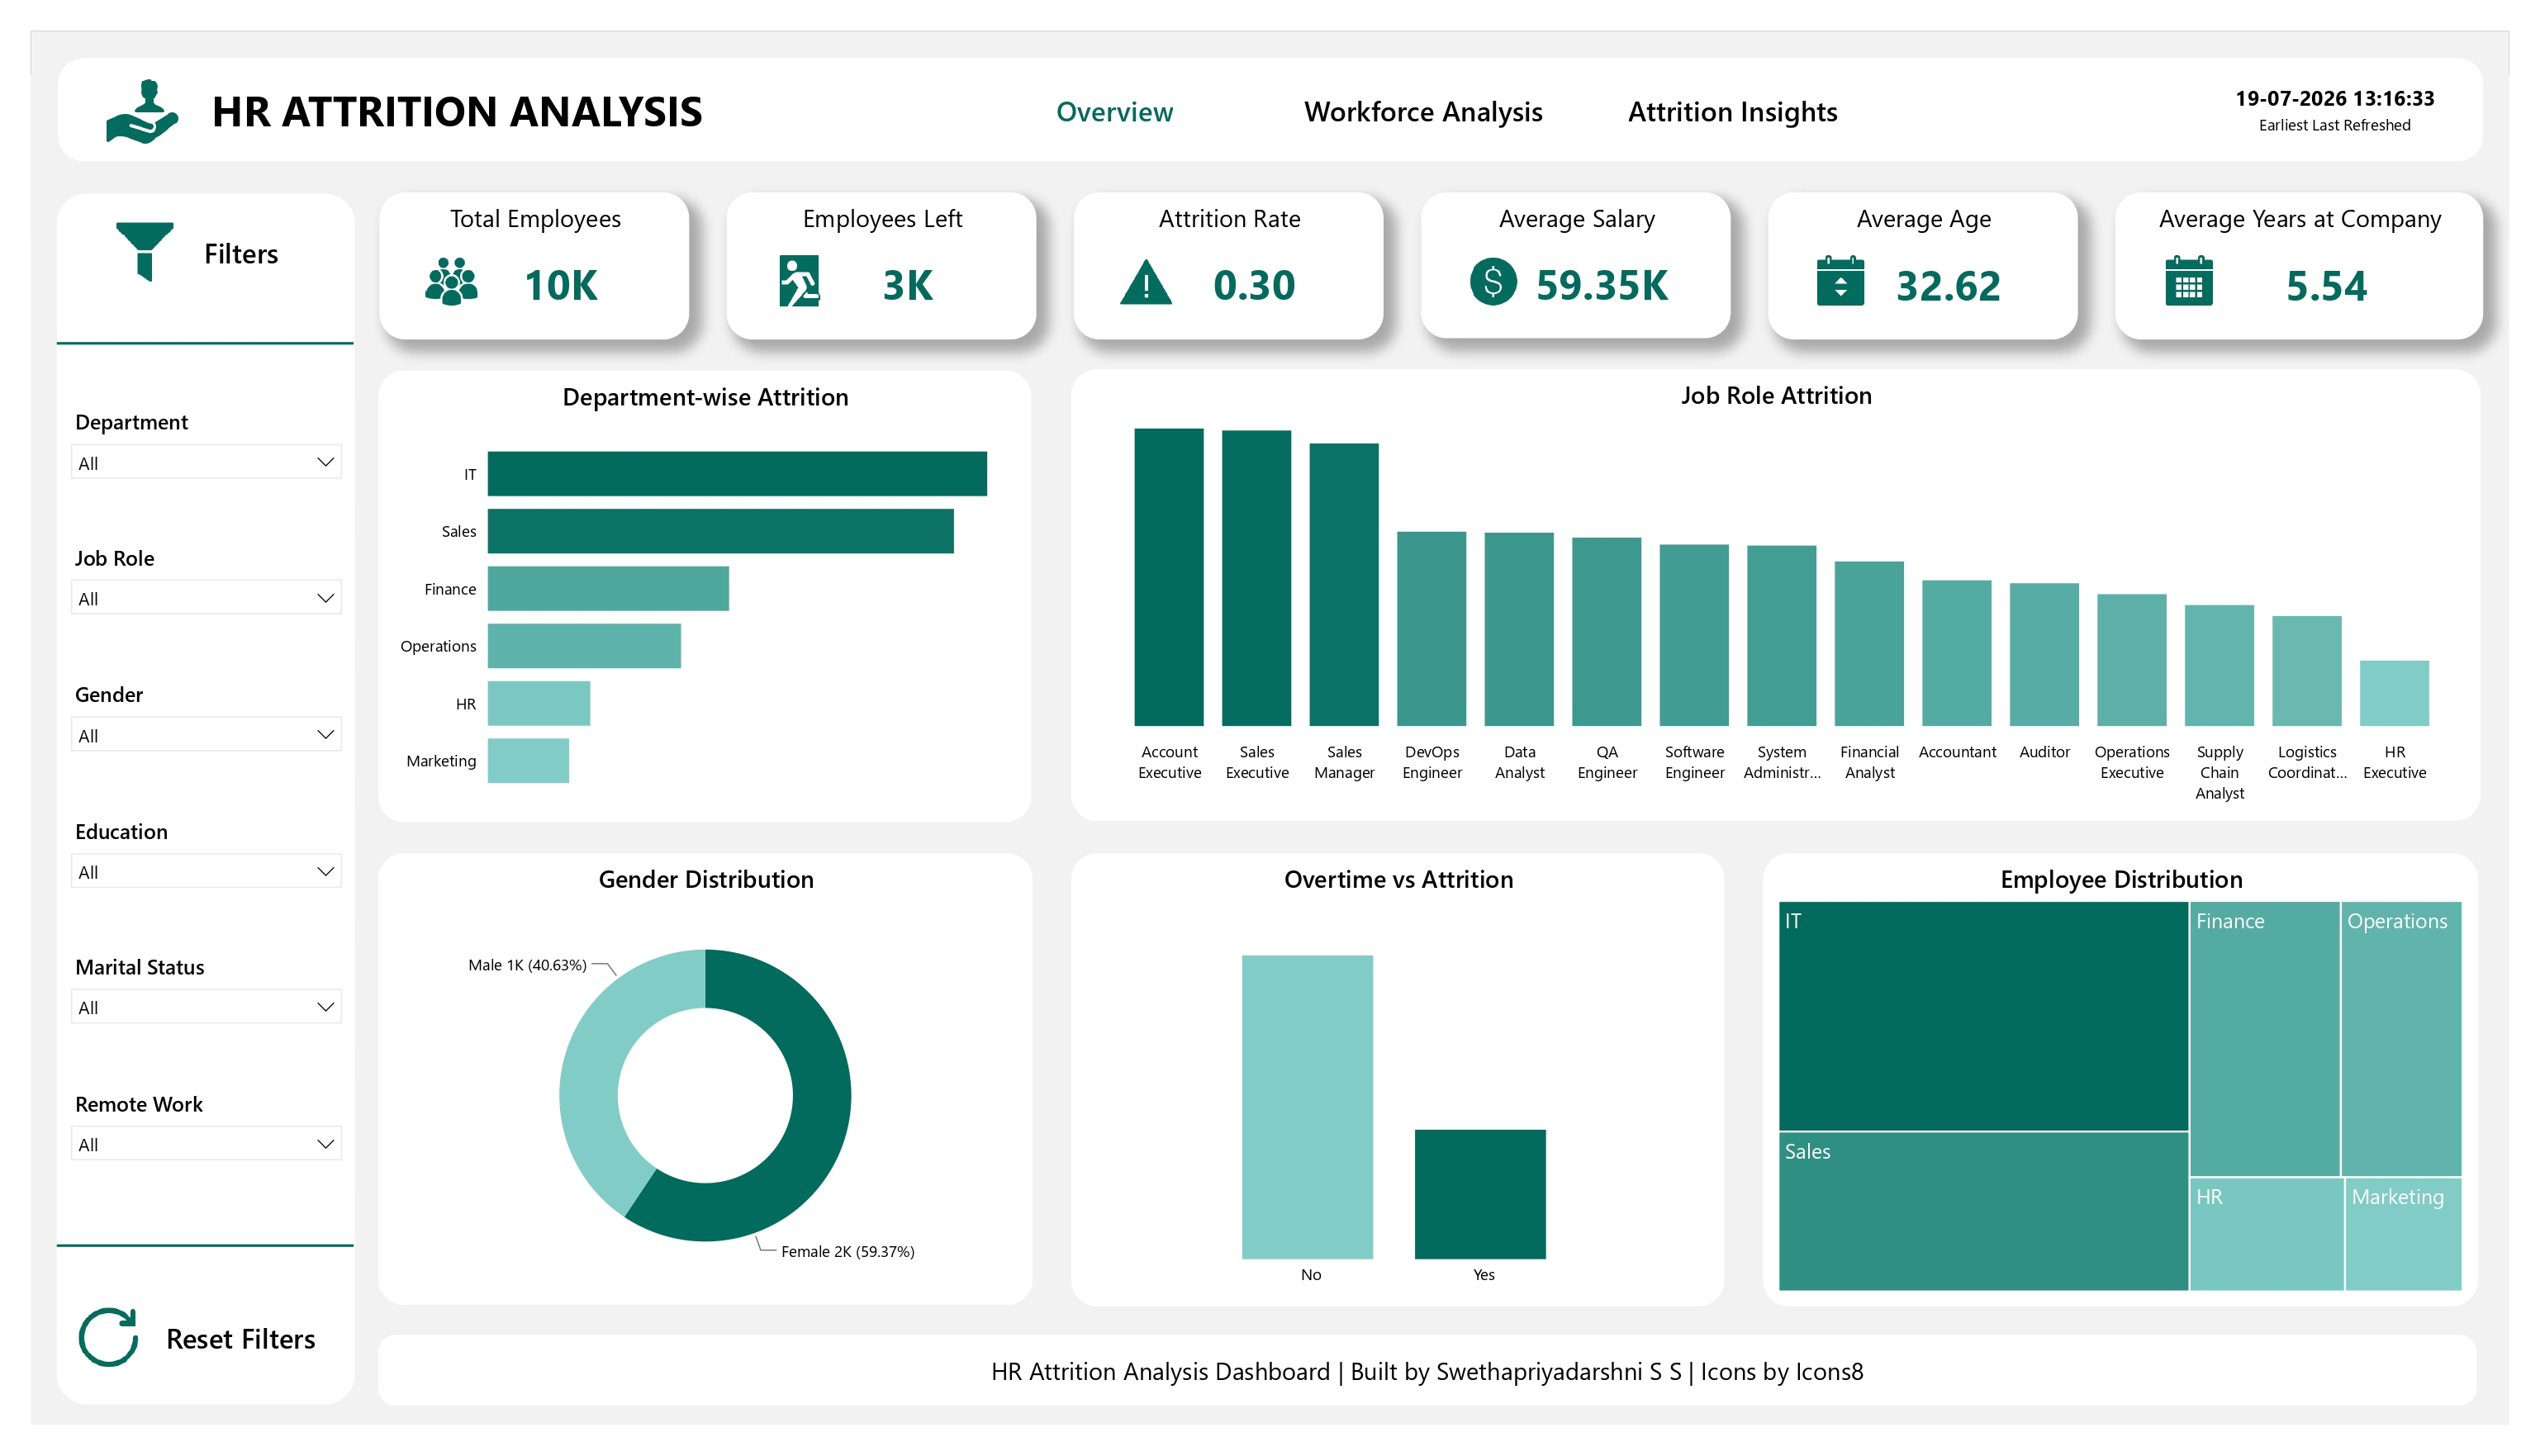

Layout of this report page (visuals, bound fields, positions):
{"tool":"powerbi","page":{"name":"Overview","canvas":[1920,1080],"ordinal":0},"visuals":[{"type":"group","id":"g1","title":"Header","box":[20.7,20.7,1879.3,80.1],"z":0},{"type":"shape","title":"Title Shape","box":[20.7,20.8,1879.3,80],"z":0,"group":"g1"},{"type":"cardVisual","title":"Total Employees","fields":{"Data":["Sheet1.Total Employees"]},"box":[269.8,125,240,113.5],"z":0,"group":"g4"},{"type":"shape","title":"Filter Shape","box":[20,126,231.5,938],"z":0,"group":"g2"},{"type":"image","title":"Filter Icon","box":[63.4,146,50.3,50],"z":0,"group":"g3"},{"type":"clusteredBarChart","title":"Department-wise Attrition","fields":{"Category":["Sheet1.Department"],"Y":["Sheet1.Employees Left"]},"box":[269,262.5,505.8,350.4],"z":0,"group":"g5"},{"type":"slicer","title":"Department Slicer","fields":{"Values":["Sheet1.Department"]},"box":[20.9,287.2,230,80],"z":0,"group":"g6"},{"type":"image","title":"Reset Icon","box":[35.4,987.1,50.3,50],"z":250,"group":"g7"},{"type":"actionButton","title":"Reset Button","box":[89.7,987.1,146.8,50],"z":500,"group":"g7"},{"type":"image","title":"Title Icon","box":[45.6,31.8,80,60],"z":1000,"group":"g1"},{"type":"cardVisual","title":"Employees Left","fields":{"Data":["Sheet1.Employees Left"]},"box":[538.8,125,240,113.5],"z":1000,"group":"g4"},{"type":"group","id":"g2","title":"Left Panel","box":[20,126,231.5,938],"z":1000},{"type":"group","id":"g3","title":"Filters","box":[63.4,146,145.1,50.2],"z":1000,"group":"g2"},{"type":"actionButton","title":"Filters Button","box":[118,146.2,90.5,50],"z":1000,"group":"g3"},{"type":"clusteredColumnChart","title":"Job Role Attrition","fields":{"Category":["Sheet1.Job_Role"],"Y":["Sheet1.Employees Left"]},"box":[805.8,261.9,1092.5,350.4],"z":1000,"group":"g5"},{"type":"slicer","title":"Job Role Slicer","fields":{"Values":["Sheet1.Job_Role"]},"box":[21,392.7,230,80],"z":1000,"group":"g6"},{"type":"textbox","title":"Title","box":[135,33.9,410.7,60],"z":2000,"group":"g1"},{"type":"group","id":"g4","title":"Cards","box":[269.8,125,1629.9,113.6],"z":2000},{"type":"cardVisual","title":"Attrition Rate","fields":{"Data":["Sheet1.Attrition Rate"]},"box":[807.8,125,240,113.5],"z":2000,"group":"g4"},{"type":"shape","title":"Filter Line","box":[20.1,221.7,230,40],"z":2000,"group":"g2"},{"type":"slicer","title":"Gender Slicer","fields":{"Values":["Sheet1.Gender"]},"box":[21,498.4,230,80],"z":2000,"group":"g6"},{"type":"donutChart","title":"Gender Distribution","fields":{"Category":["Sheet1.Gender"],"Y":["Sheet1.Employees Left"]},"box":[269,636.9,507.2,350.4],"z":2000,"group":"g5"},{"type":"actionButton","title":"Overview Button","box":[719.6,20.7,240,80],"z":3000,"group":"g1"},{"type":"cardVisual","title":"Average Salary","fields":{"Data":["Sheet1.Average Salary"]},"box":[1076.8,125.2,240,113.1],"z":3000,"group":"g4"},{"type":"group","id":"g5","title":"Charts","box":[269,261.9,1629.3,725.9],"z":3000},{"type":"group","id":"g6","title":"Slicers","box":[20.9,287.2,230.1,607.7],"z":3000,"group":"g2"},{"type":"slicer","title":"Education Slicer","fields":{"Values":["Sheet1.Education_Level"]},"box":[21,603.9,230,80],"z":3000,"group":"g6"},{"type":"columnChart","title":"Overtime vs Attrition","fields":{"Category":["Sheet1.Overtime"],"Y":["CountNonNull(Sheet1.Attrition)"]},"box":[805.8,637.3,506.3,350.4],"z":3000,"group":"g5"},{"type":"actionButton","title":"Workforce Analysis Button","box":[959,20.7,240,80],"z":4000,"group":"g1"},{"type":"cardVisual","title":"Average Age","fields":{"Data":["Sheet1.Average Age"]},"box":[1345.7,125,240,113.6],"z":4000,"group":"g4"},{"type":"treemap","title":"Employee Distribution","fields":{"Group":["Sheet1.Department"],"Values":["CountNonNull(Sheet1.Employee_ID)"]},"box":[1342.1,637.3,553.7,350.4],"z":4000,"group":"g5"},{"type":"slicer","title":"Marital Status Slicer","fields":{"Values":["Sheet1.Marital_Status"]},"box":[21,709.4,230,80],"z":4000,"group":"g6"},{"type":"shape","title":"Reset Line","box":[20.1,920.6,230,40.9],"z":4000,"group":"g2"},{"type":"shape","title":"Footer","box":[269,1010.3,1625.9,55],"z":4000},{"type":"actionButton","title":"Attrition Insights Button","box":[1198.3,20.7,240,80],"z":5000,"group":"g1"},{"type":"cardVisual","title":"Average Years at Company","fields":{"Data":["Sheet1.Average Years at Company"]},"box":[1614.7,125,285,113.6],"z":5000,"group":"g4"},{"type":"slicer","title":"Remote Work Slicer","fields":{"Values":["Sheet1.Remote_Work"]},"box":[21,814.9,230,80],"z":5000,"group":"g6"},{"type":"group","id":"g7","title":"Reset","box":[35.4,987.1,201.1,50],"z":5000,"group":"g2"},{"type":"cardVisual","title":"Last Refreshed","fields":{"Data":["Min(Last Refreshed.Last Refreshed)"]},"box":[1674.5,24.5,221.4,70],"z":5500,"group":"g1"}]}

Visuals, with their boxes on the page's 1920x1080 design canvas (x1, y1, x2, y2). These are canvas units, not pixel positions in the 2540x1456 screenshot, which may show the page scaled, cropped or inside an application window:
"Header" group: detection(21, 21, 1900, 101)
"Title Shape" shape: detection(21, 21, 1900, 101)
"Total Employees" cardVisual: detection(270, 125, 510, 238)
"Filter Shape" shape: detection(20, 126, 252, 1064)
"Filter Icon" image: detection(63, 146, 114, 196)
"Department-wise Attrition" clusteredBarChart: detection(269, 262, 775, 613)
"Department Slicer" slicer: detection(21, 287, 251, 367)
"Reset Icon" image: detection(35, 987, 86, 1037)
"Reset Button" actionButton: detection(90, 987, 236, 1037)
"Title Icon" image: detection(46, 32, 126, 92)
"Employees Left" cardVisual: detection(539, 125, 779, 238)
"Left Panel" group: detection(20, 126, 252, 1064)
"Filters" group: detection(63, 146, 208, 196)
"Filters Button" actionButton: detection(118, 146, 208, 196)
"Job Role Attrition" clusteredColumnChart: detection(806, 262, 1898, 612)
"Job Role Slicer" slicer: detection(21, 393, 251, 473)
"Title" textbox: detection(135, 34, 546, 94)
"Cards" group: detection(270, 125, 1900, 239)
"Attrition Rate" cardVisual: detection(808, 125, 1048, 238)
"Filter Line" shape: detection(20, 222, 250, 262)
"Gender Slicer" slicer: detection(21, 498, 251, 578)
"Gender Distribution" donutChart: detection(269, 637, 776, 987)
"Overview Button" actionButton: detection(720, 21, 960, 101)
"Average Salary" cardVisual: detection(1077, 125, 1317, 238)
"Charts" group: detection(269, 262, 1898, 988)
"Slicers" group: detection(21, 287, 251, 895)
"Education Slicer" slicer: detection(21, 604, 251, 684)
"Overtime vs Attrition" columnChart: detection(806, 637, 1312, 988)
"Workforce Analysis Button" actionButton: detection(959, 21, 1199, 101)
"Average Age" cardVisual: detection(1346, 125, 1586, 239)
"Employee Distribution" treemap: detection(1342, 637, 1896, 988)
"Marital Status Slicer" slicer: detection(21, 709, 251, 789)
"Reset Line" shape: detection(20, 921, 250, 962)
"Footer" shape: detection(269, 1010, 1895, 1065)
"Attrition Insights Button" actionButton: detection(1198, 21, 1438, 101)
"Average Years at Company" cardVisual: detection(1615, 125, 1900, 239)
"Remote Work Slicer" slicer: detection(21, 815, 251, 895)
"Reset" group: detection(35, 987, 236, 1037)
"Last Refreshed" cardVisual: detection(1674, 24, 1896, 94)
